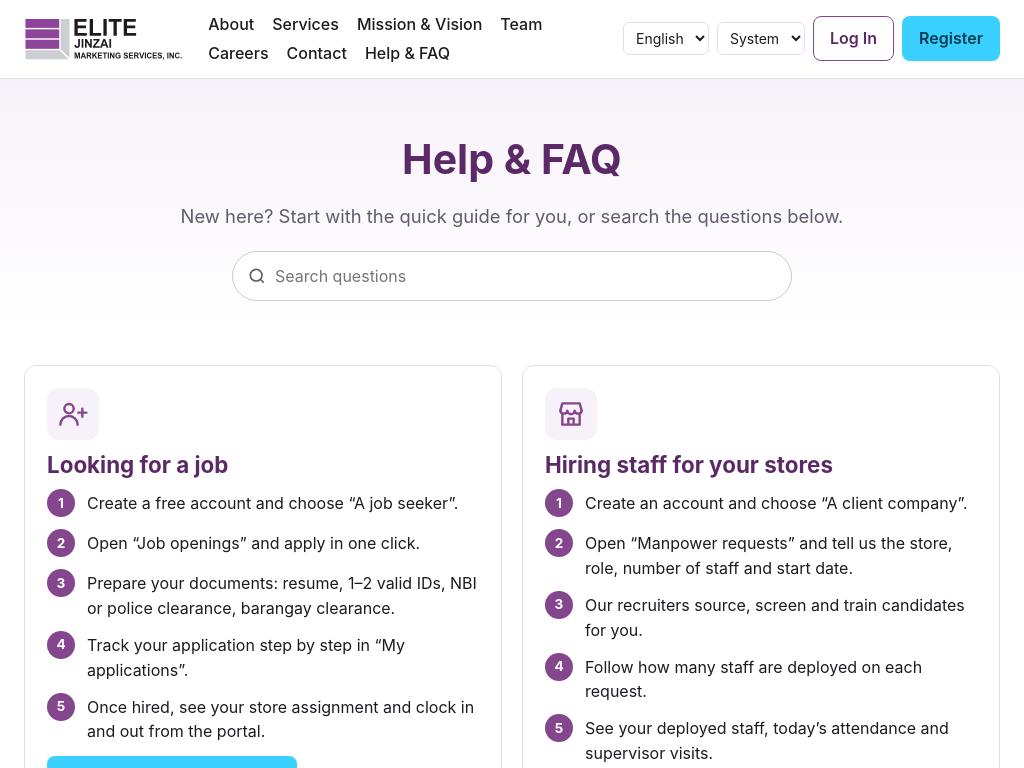
Scenario: public help shows quick-start guides and filters questions by search
expect the heading "Looking for a job" is shown: met, box x1=47 y1=451 x2=228 y2=478
expect the heading "Hiring staff for your stores" is shown: met, box x1=545 y1=451 x2=833 y2=478
Type "barangay" into the search field.
click(526, 276); type("barangay")  # box x1=275 y1=252 x2=777 y2=300
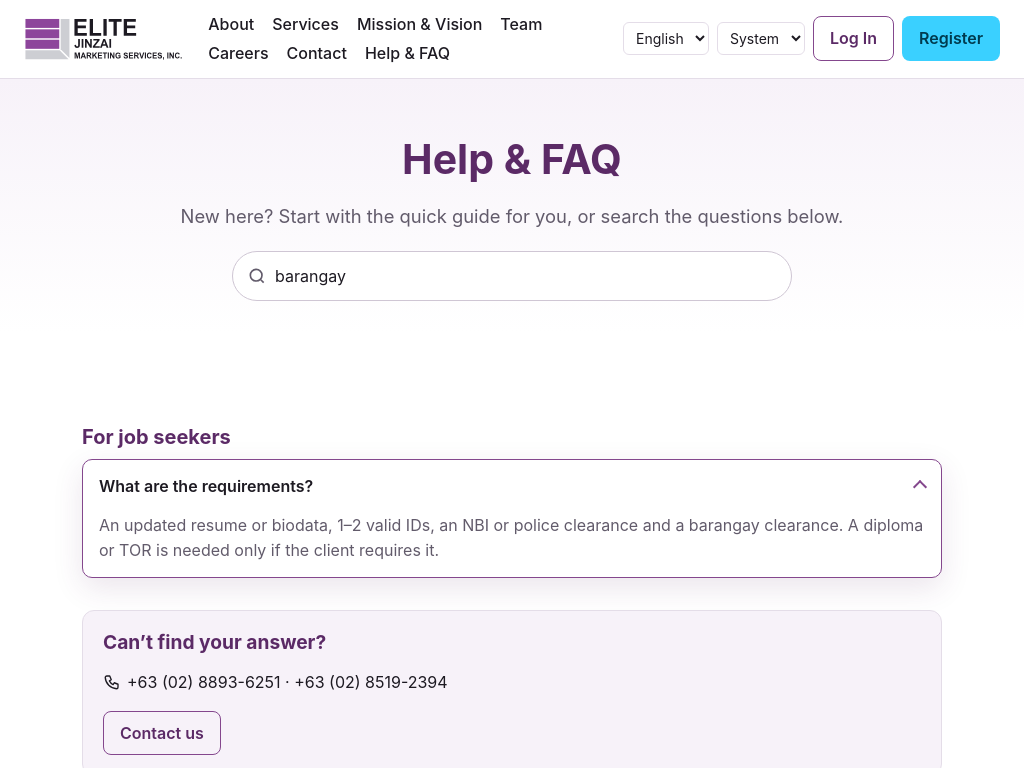
expect the text "What are the requirements?" is shown: met, box x1=99 y1=474 x2=313 y2=499
expect the heading "Looking for a job" is gone: met
Replace the text in the search field with "zzzz" at (526, 276), box x1=275 y1=252 x2=777 y2=300
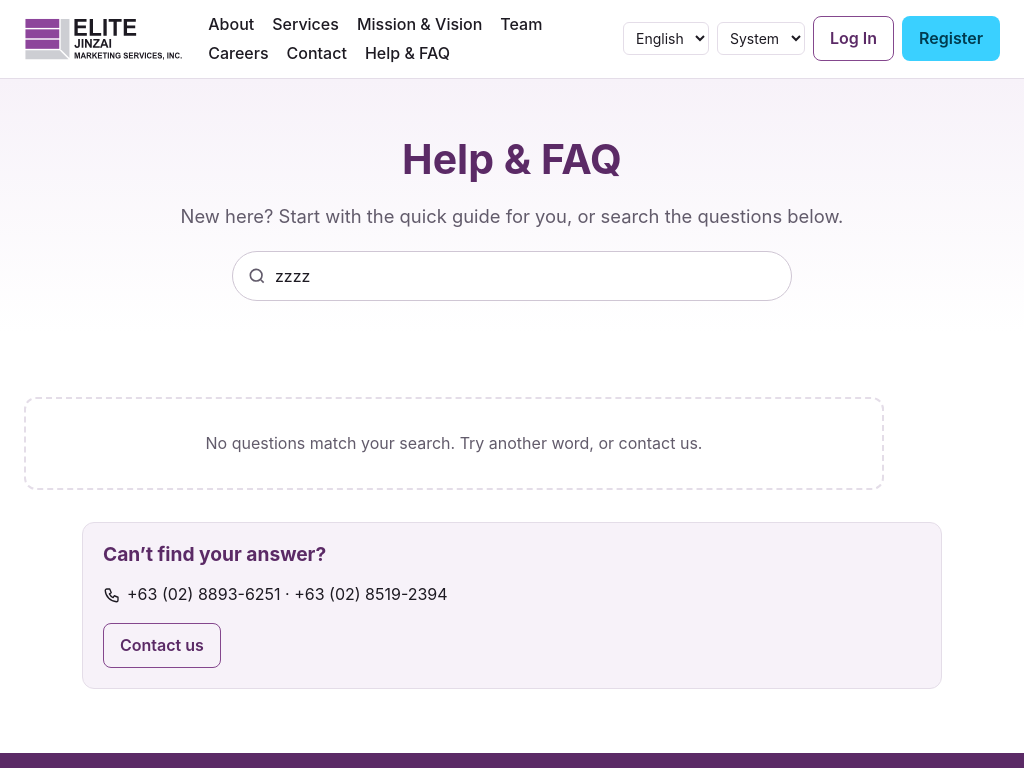
expect the text "No questions match" is shown: met, box x1=206 y1=433 x2=702 y2=453
